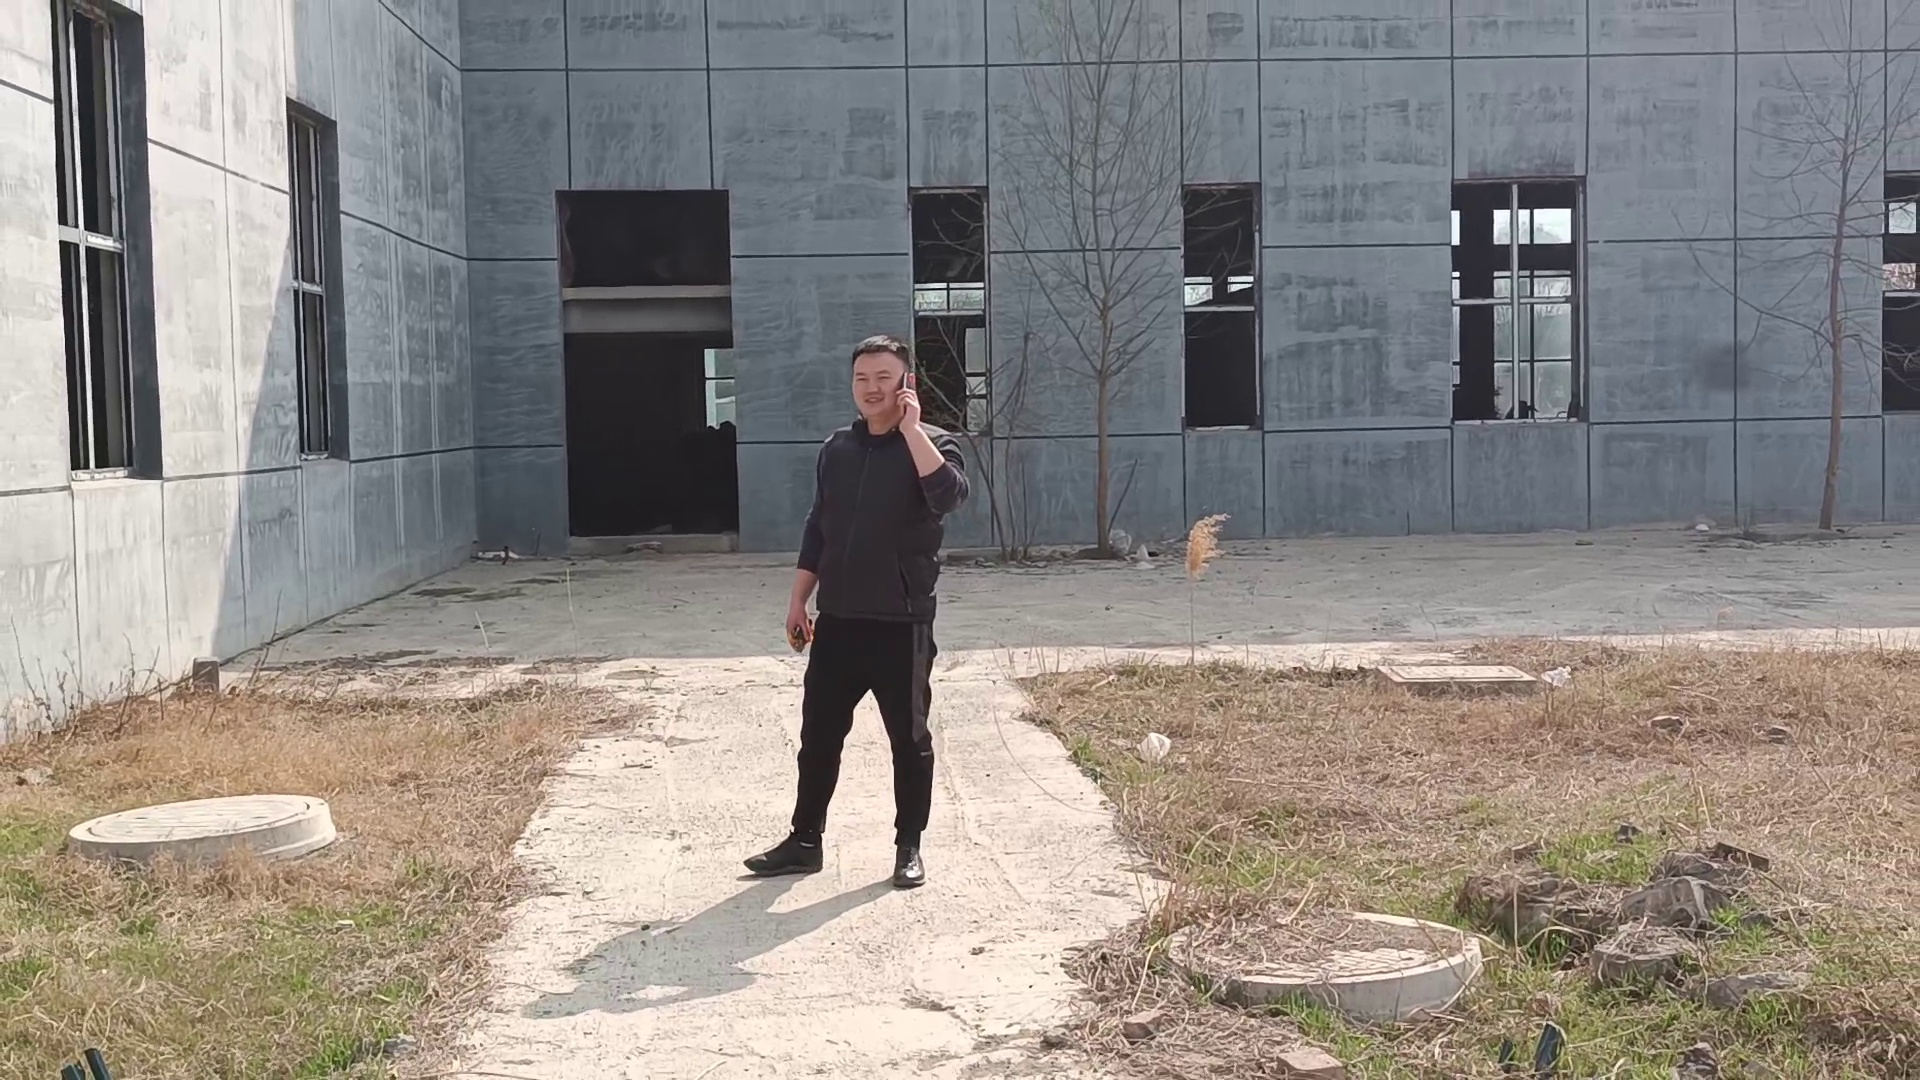phone: (841, 339, 915, 426)
